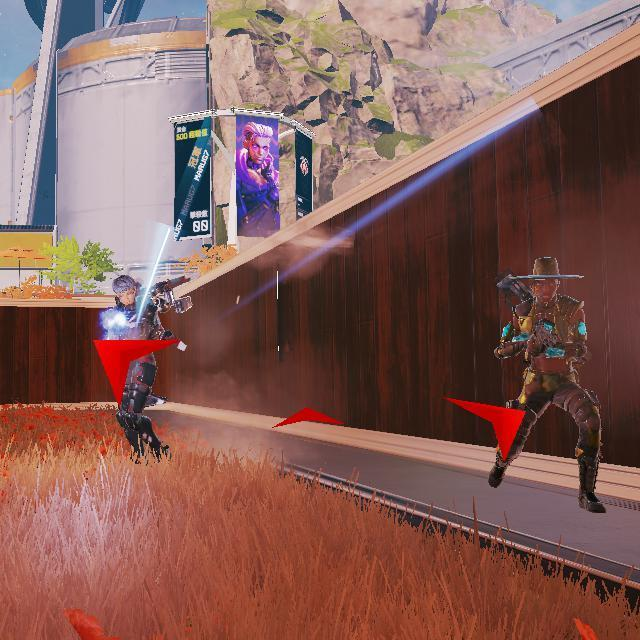avatar: (490, 250, 610, 519), (98, 273, 178, 468)
